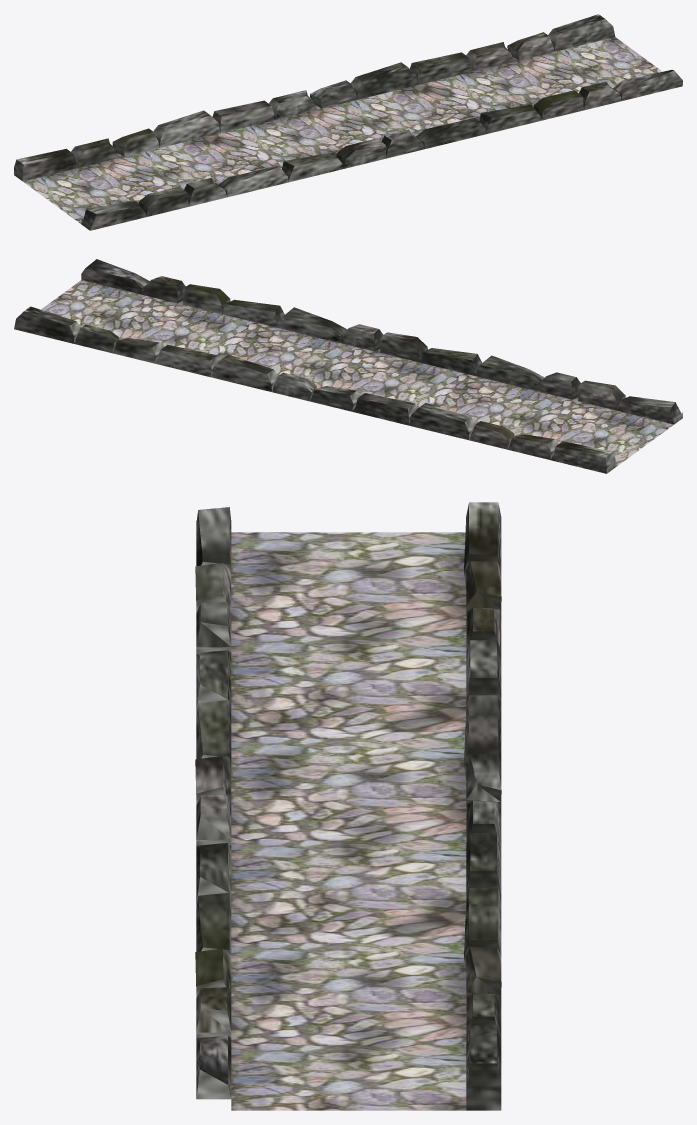
The model's file is road.FBX.
The picture shows the model from 3 angles, top to bottom: view 1: azimuth 30°, elevation 25°; view 2: azimuth 150°, elevation 25°; view 3: azimuth 270°, elevation 25°; orthographic projection. The views are drawn at different scales.
Parts seen in each view (by area): view 1: Road itself, NoName21; view 2: NoName21, Road itself; view 3: Road itself, NoName21.
Boxes of the visible parts, x1,y1,x2,y2 form: Road itself: [23, 37, 662, 223]; NoName21: [14, 14, 682, 230]; NoName21: [14, 259, 682, 473]; Road itself: [41, 280, 673, 466]; Road itself: [231, 532, 466, 1110]; NoName21: [195, 502, 501, 1110].
Bounding box in the file's own units: 1.07 × 0.0333 × 0.2386.
